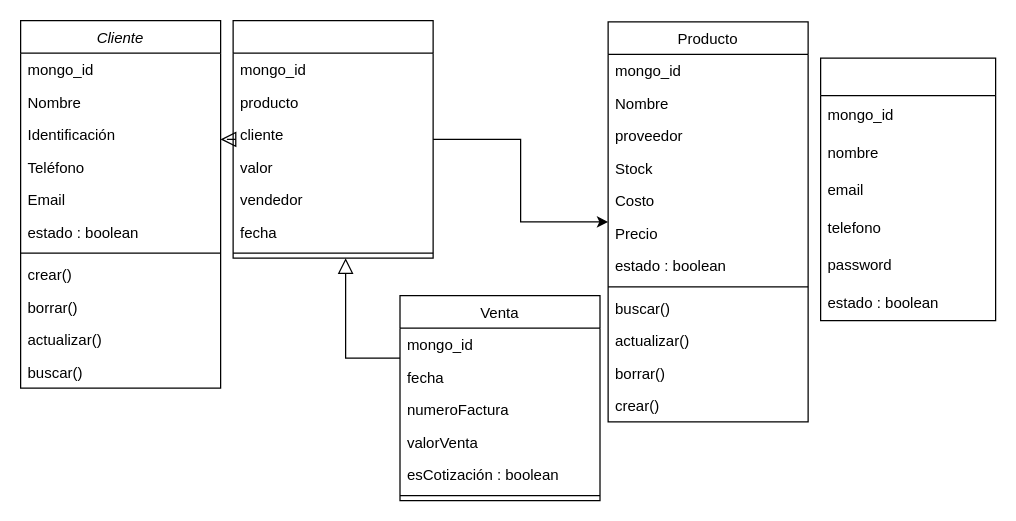
Some shapes in this 1016 by 521 pixel diagram are drawn without their labels. The shapes that lost their labels are listed below. From the top down, each one's box as (x1, y1, x2, y2) in pixels, then its label:
(232, 19, 433, 258): Factura
(819, 57, 996, 321): Usuario
